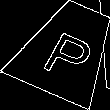P_NE: (36, 19, 98, 80)
